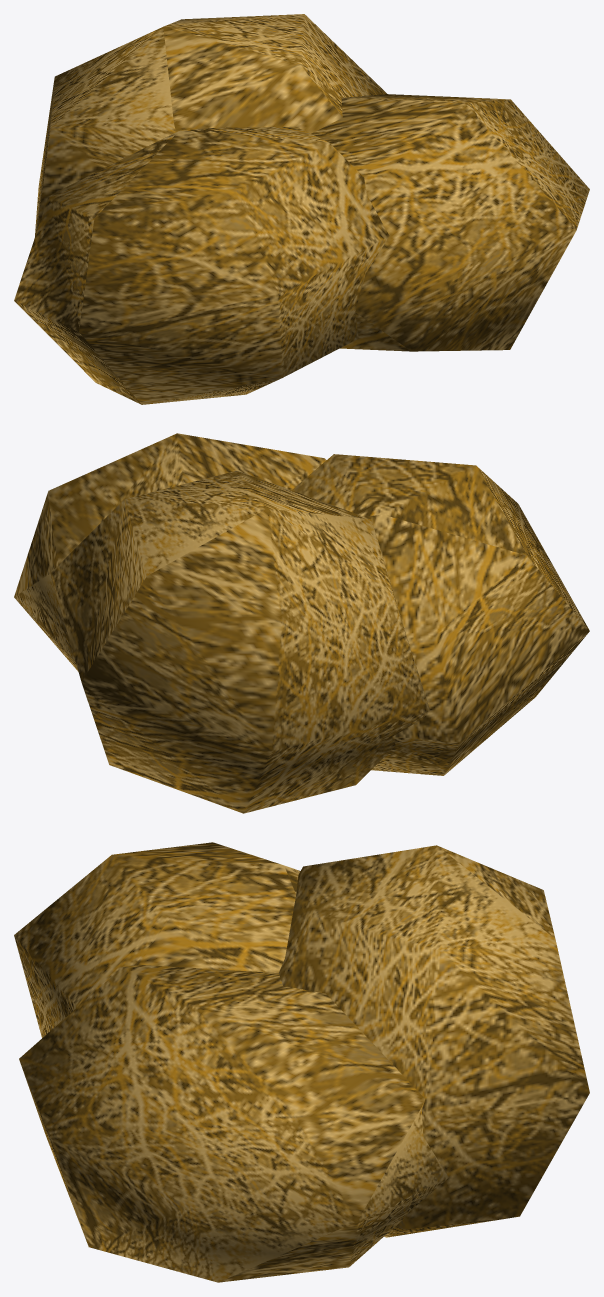
File: des_bush.fbx
The picture shows the model from 3 angles, top to bottom: view 1: azimuth 30°, elevation 25°; view 2: azimuth 150°, elevation 25°; view 3: azimuth 270°, elevation 25°; orthographic projection. The views are drawn at different scales.
Visible parts, largest first — view 1: desert_bush; view 2: desert_bush; view 3: desert_bush.
Part boxes in pixels (x1=…): desert_bush: x1=14, y1=14, x2=589, y2=404; desert_bush: x1=14, y1=433, x2=589, y2=813; desert_bush: x1=14, y1=842, x2=589, y2=1282.
Bounding box in the file's own units: 328 × 184 × 274.
Materials: 1 (1 with a texture image).
